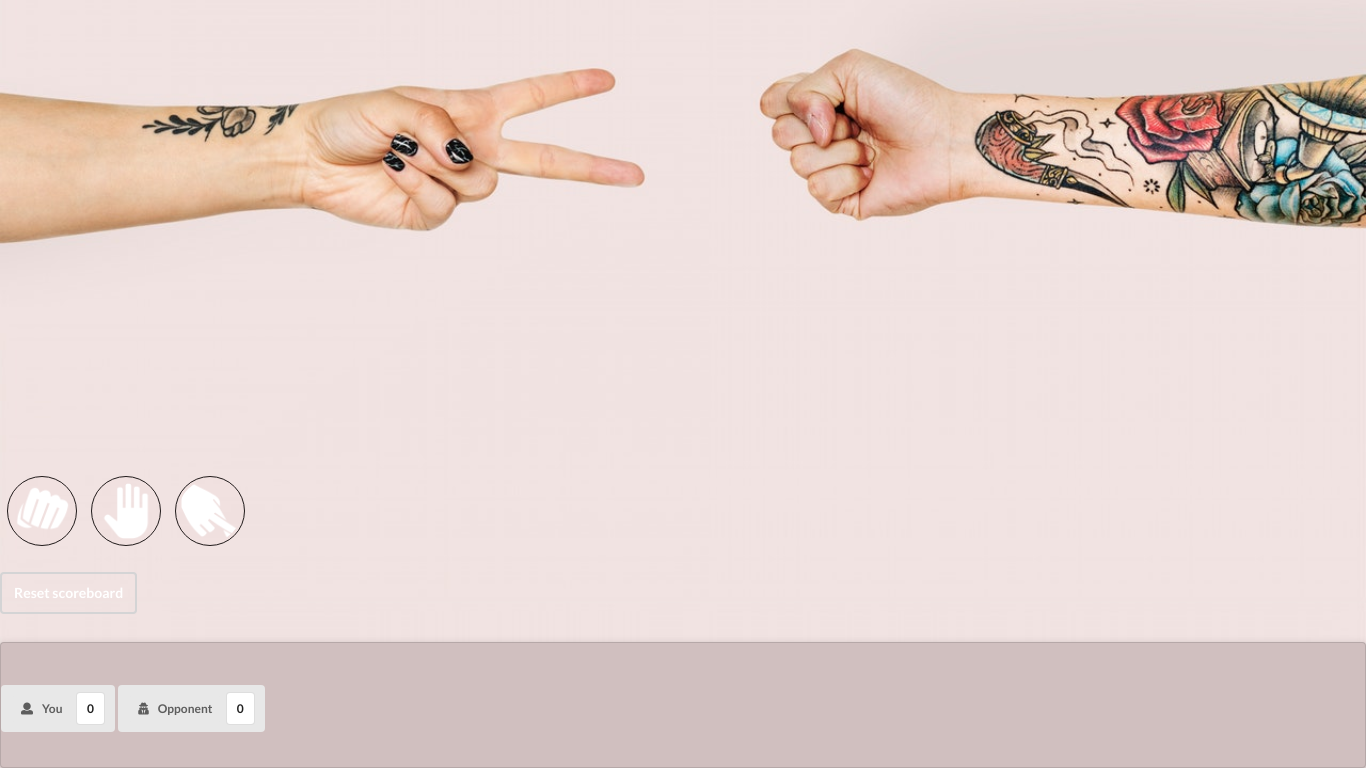
Test: <Game /> › shows player as the winner if rock beats scissors
(page scrolled)
Click the picture with id "rock-btn" at (42, 511), box x1=7 y1=476 x2=77 y2=546
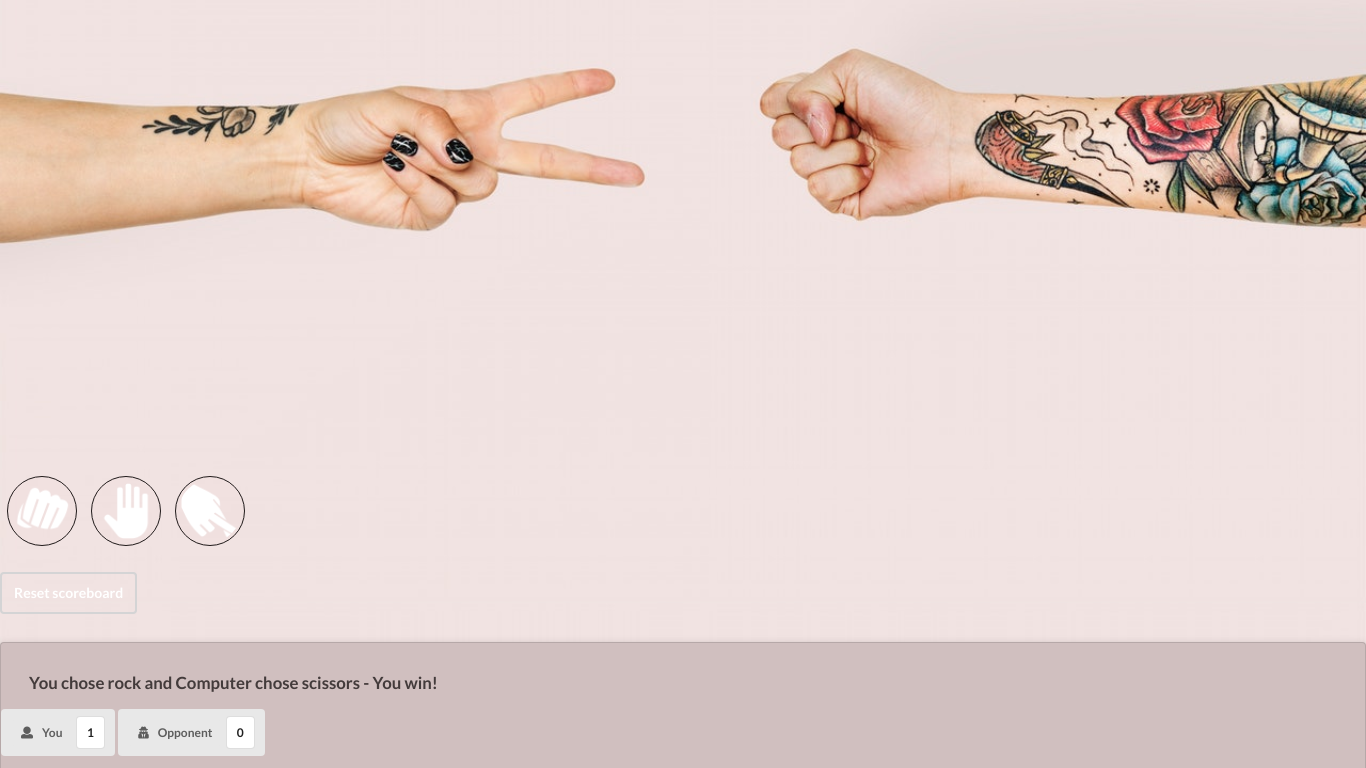
Now the text "You chose rock and Computer chose scissors - You win!" is shown, box x1=29 y1=672 x2=438 y2=693
